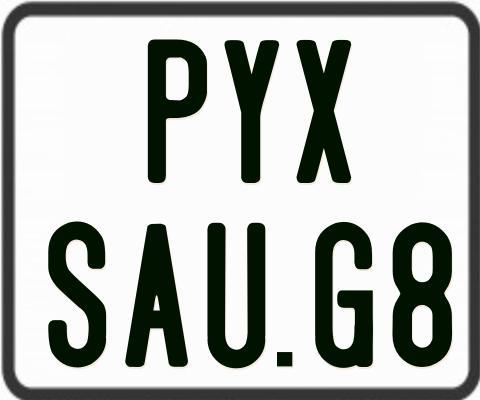8: (390, 222, 455, 370)
A: (123, 221, 192, 367)
G: (313, 222, 374, 373)
P: (145, 37, 206, 183)
S: (45, 221, 109, 373)
U: (207, 221, 267, 369)
X: (296, 40, 350, 189)
Y: (222, 37, 281, 180)
